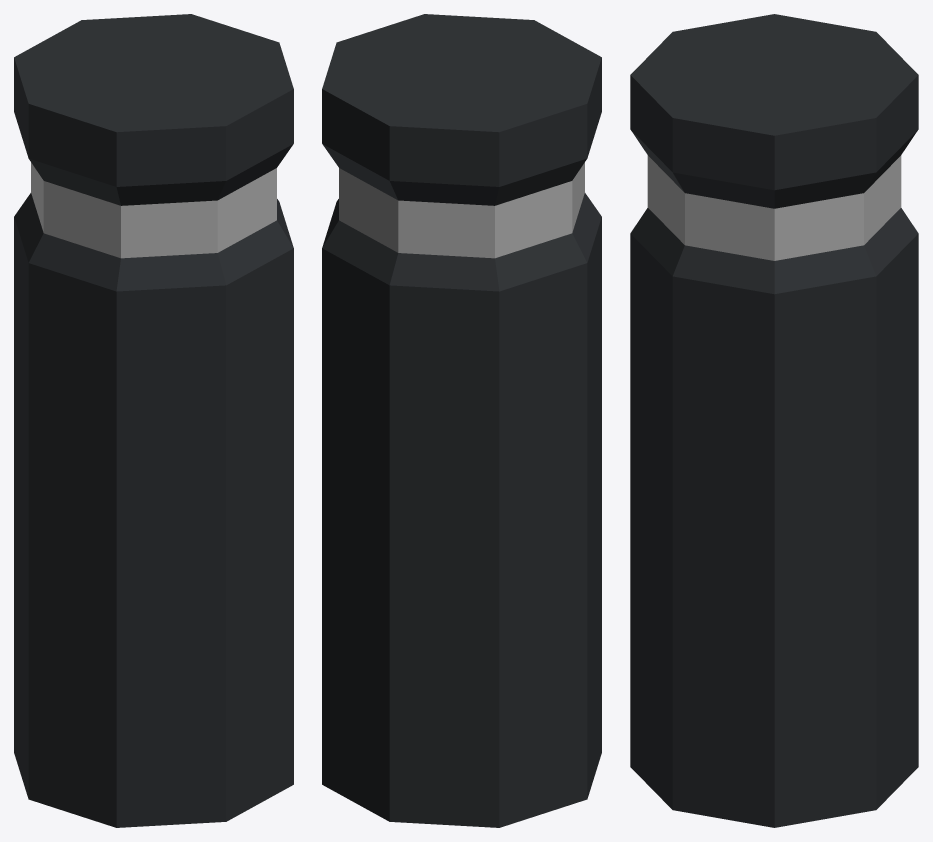
Rendered from SM_Prop_Outdoor_Light_01.fbx.
The picture shows the model from 3 angles, left to right: view 1: azimuth 30°, elevation 25°; view 2: azimuth 150°, elevation 25°; view 3: azimuth 270°, elevation 25°; orthographic projection.
Parts seen in each view (by area): view 1: SM_Prop_Outdoor_Light_01; view 2: SM_Prop_Outdoor_Light_01; view 3: SM_Prop_Outdoor_Light_01.
Boxes of the visible parts, x1,y1,x2,y2 form: SM_Prop_Outdoor_Light_01: [14, 14, 293, 827]; SM_Prop_Outdoor_Light_01: [322, 14, 601, 827]; SM_Prop_Outdoor_Light_01: [630, 14, 918, 827].
Bounding box in the file's own units: 9.18 × 24.32 × 9.18.
